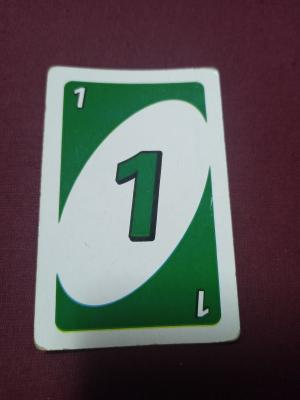green: (50, 83, 223, 331)
num_1: (184, 280, 222, 326), (65, 83, 93, 114)
